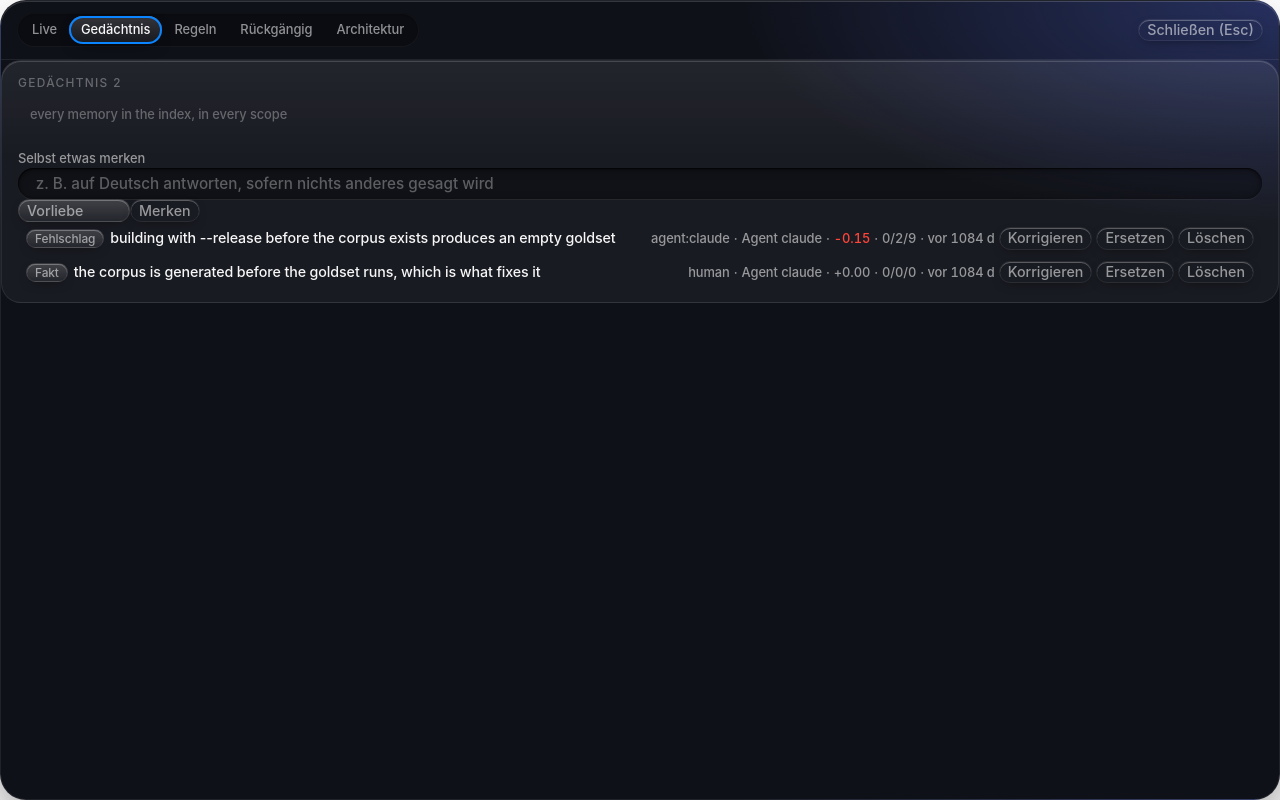
Test case: AgentInspector › supersedes one memory with another, in two clicks
Later steps or results of the test are not shown.
Check: the text "empty goldset" is shown, box [110,229,616,246]
Click the button "Ersetzen" in the row of "-0.15" at (1135, 238), box [1096,227,1174,250]
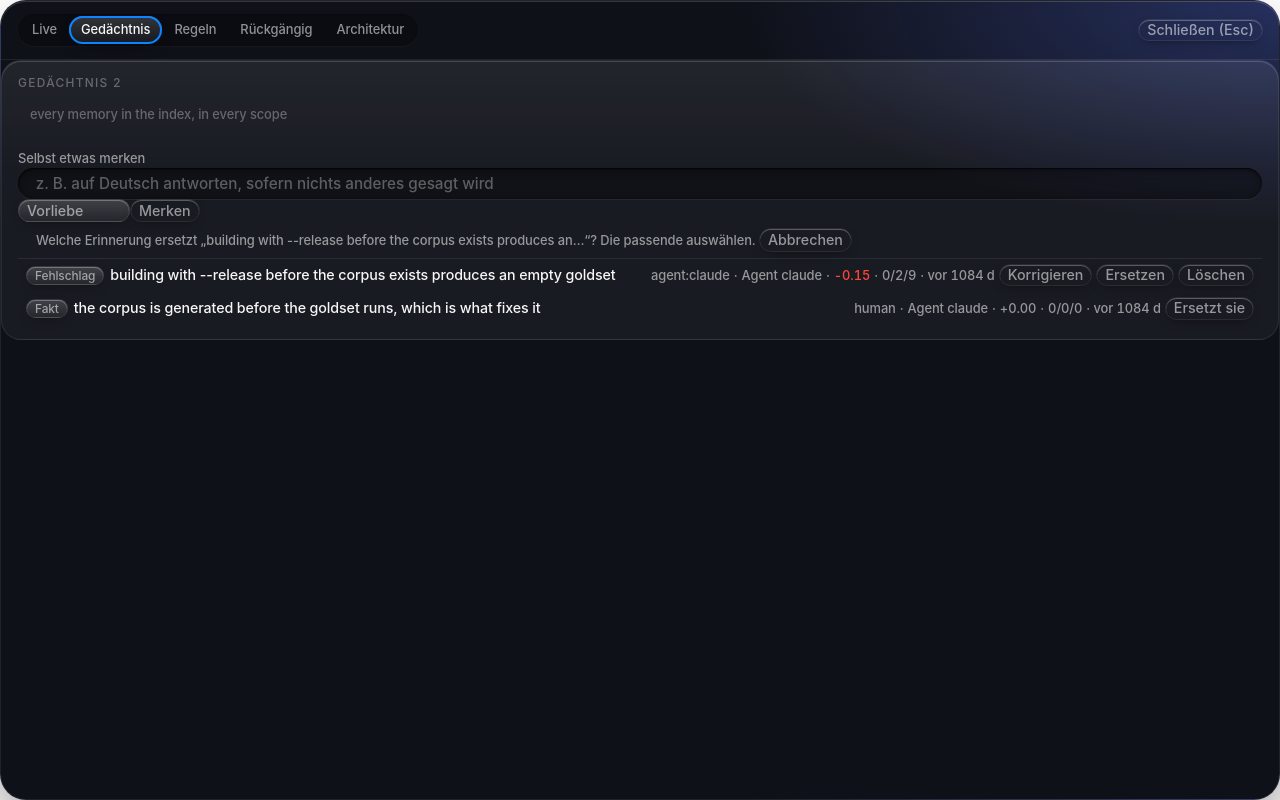
Check: the text "Welche Erinnerung ersetzt" is shown, box [36,233,206,248]
